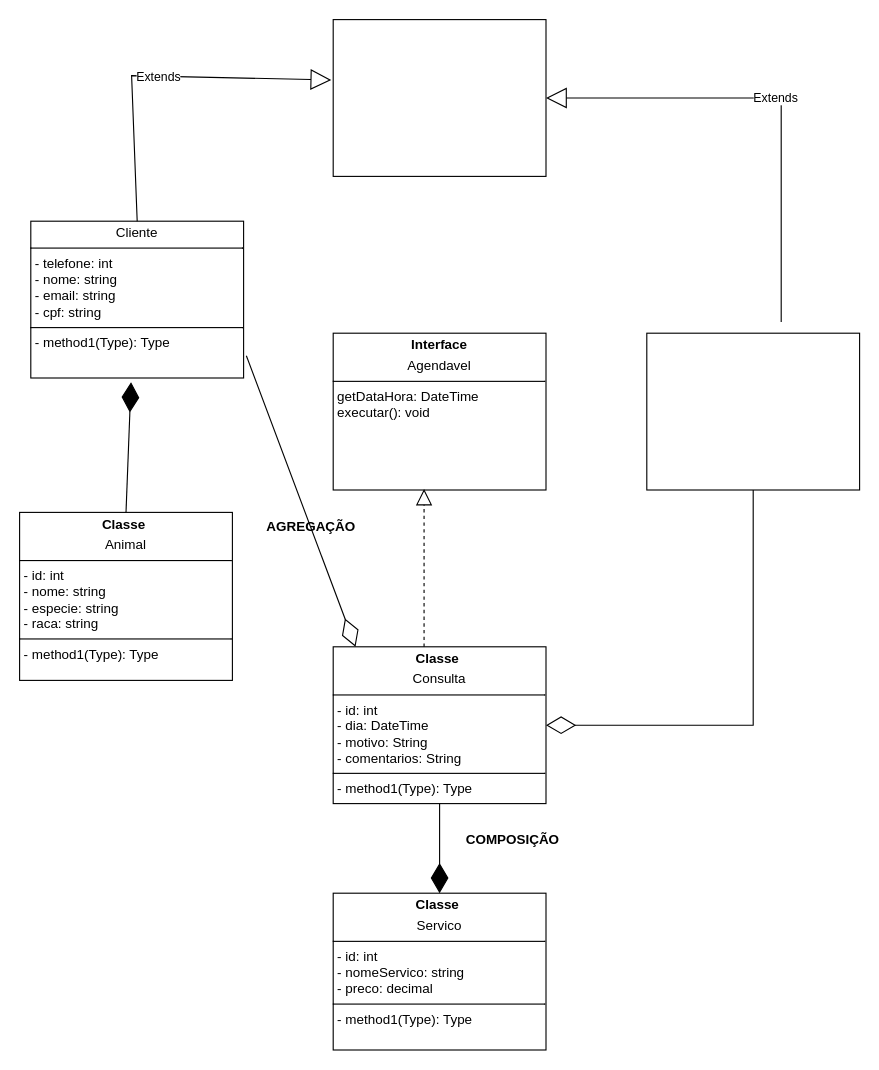
The diagram is 879 pixels wide and 1070 high, and some of its shapes have lost their labels. Each missing label, with the box of its shape:
Classe Abstrata Pessoa # id: int # nome: string # method1(Type): Type: (332, 18, 546, 176)
Classe Veterinario - especialidade: String - crmv: String - method1(Type): Type: (646, 332, 860, 490)
